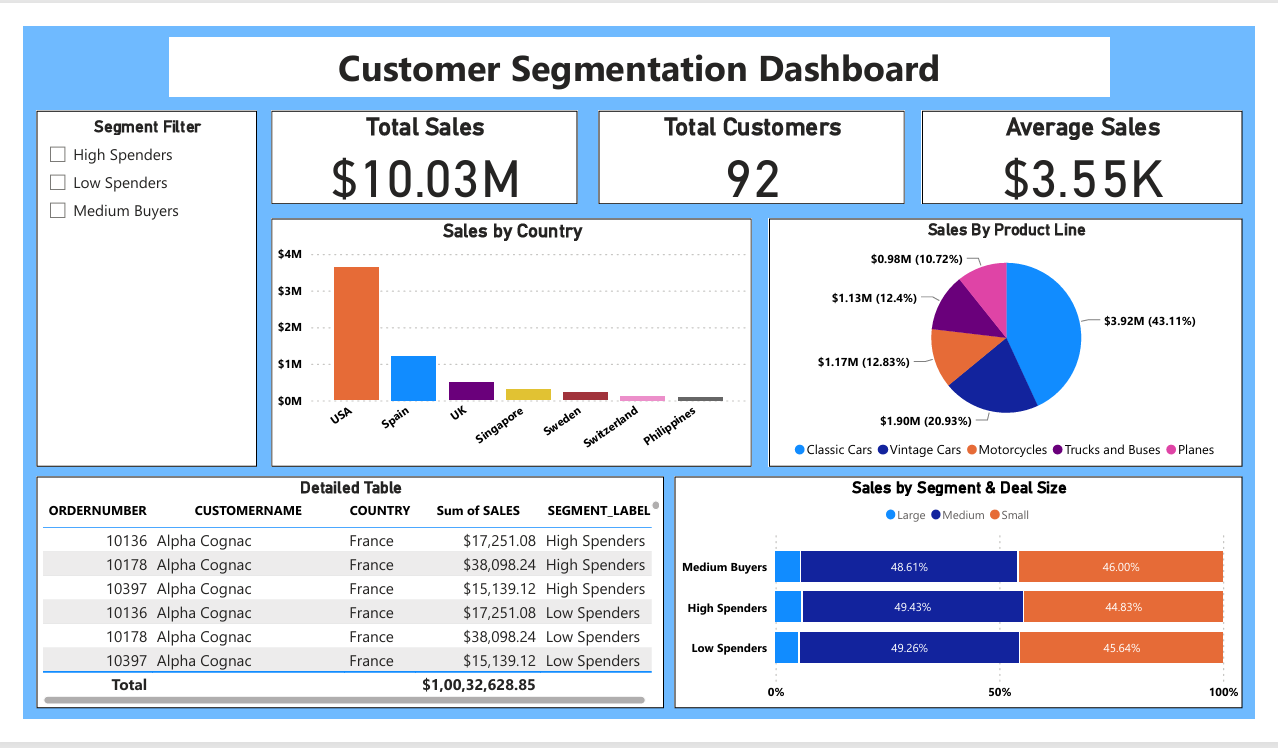

This screenshot's page, from the dashboard's own definition file:
{"tool":"powerbi","page":{"name":"Page 1","canvas":[1280,720],"ordinal":0},"visuals":[{"type":"slicer","title":"Segment Filter","fields":{"Values":["Segmented Data.SEGMENT_LABEL"]},"box":[13.7,87.8,229.2,370.5],"z":0},{"type":"card","title":"Total Sales","fields":{"Values":["Sum(Raw Data.SALES)"]},"box":[257.7,87.8,318.4,97.4],"z":1000},{"type":"card","title":"Total Customers","fields":{"Values":["Count(Raw Data.CUSTOMERNAME)"]},"box":[598,87.8,318.4,97.4],"z":2000},{"type":"card","title":"Average Sales","fields":{"Values":["Avg(Raw Data.SALES)"]},"box":[934.5,87.8,332.1,97.4],"z":3000},{"type":"clusteredColumnChart","title":"Sales by Country","fields":{"Category":["Raw Data.COUNTRY"],"Y":["Sum(Raw Data.SALES)"]},"box":[258,200.3,499.5,258],"z":4000},{"type":"pieChart","title":"Sales By Product Line","fields":{"Category":["Raw Data.PRODUCTLINE"],"Y":["Sum(Raw Data.SALES)"]},"box":[775.3,200.3,491.3,258],"z":5000},{"type":"tableEx","title":"Detailed Table","fields":{"Values":["Segmented Data.ORDERNUMBER","Raw Data.CUSTOMERNAME","Raw Data.COUNTRY","Sum(Raw Data.SALES)","Segmented Data.SEGMENT_LABEL"]},"box":[13.7,467.9,651.8,241.5],"z":6000},{"type":"hundredPercentStackedBarChart","title":"Sales by Segment & Deal Size","fields":{"Category":["Segmented Data.SEGMENT_LABEL"],"Series":["Raw Data.DEALSIZE"],"Y":["CountNonNull(Raw Data.ORDERNUMBER)"]},"box":[676.5,467.9,590.1,241.5],"z":7000},{"type":"textbox","box":[152.3,12.3,977,61.7],"z":7001}]}

Visuals, with their boxes on the page's 1280x720 design canvas (x1, y1, x2, y2). These are canvas units, not pixel positions in the 1278x748 screenshot, which may show the page scaled, cropped or inside an application window:
"Segment Filter" slicer: rect(14, 88, 243, 458)
"Total Sales" card: rect(258, 88, 576, 185)
"Total Customers" card: rect(598, 88, 916, 185)
"Average Sales" card: rect(934, 88, 1267, 185)
"Sales by Country" clusteredColumnChart: rect(258, 200, 758, 458)
"Sales By Product Line" pieChart: rect(775, 200, 1267, 458)
"Detailed Table" tableEx: rect(14, 468, 666, 709)
"Sales by Segment & Deal Size" hundredPercentStackedBarChart: rect(676, 468, 1267, 709)
textbox: rect(152, 12, 1129, 74)
